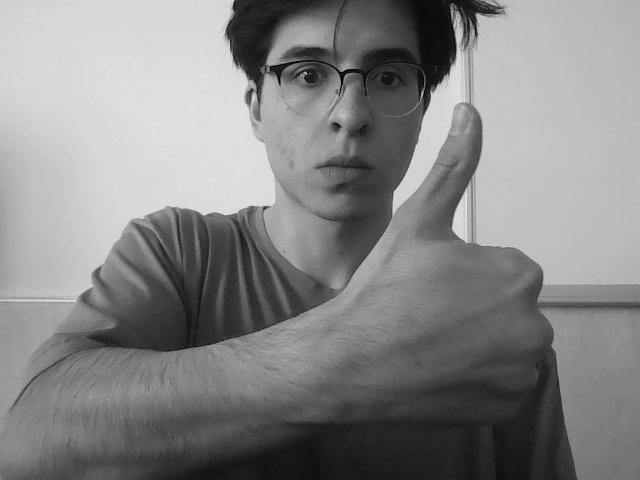good: (396, 104, 602, 416)
